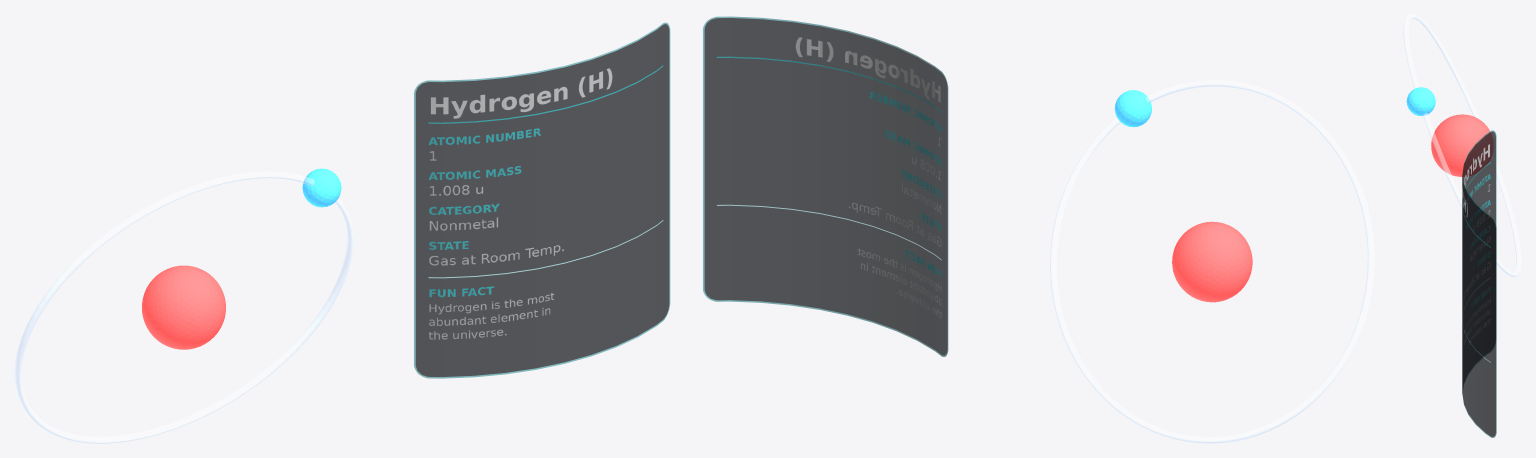
Rendered from hydrogen.glb.
3 renders of one model, left to right at view 1: azimuth 30°, elevation 25°; view 2: azimuth 150°, elevation 25°; view 3: azimuth 270°, elevation 25°, orthographic. The views are drawn at different scales.
Visible parts, largest first — view 1: info_panel, orbital_ring, nucleus, electron; view 2: info_panel, orbital_ring, nucleus, electron; view 3: info_panel, nucleus, orbital_ring, electron.
Part boxes in pixels (x1,y1,x2,y2): info_panel: [414, 22, 670, 378]; orbital_ring: [14, 171, 353, 443]; nucleus: [142, 265, 225, 349]; electron: [302, 168, 341, 207]; info_panel: [703, 16, 948, 356]; orbital_ring: [1050, 80, 1374, 443]; nucleus: [1172, 221, 1252, 302]; electron: [1114, 90, 1151, 127]; info_panel: [1462, 130, 1496, 437]; nucleus: [1431, 114, 1493, 176]; orbital_ring: [1403, 14, 1521, 276]; electron: [1406, 87, 1435, 115].
Bounding box in the file's own units: 1.17 × 0.5205 × 0.2377.
4 materials, 1 textured.
